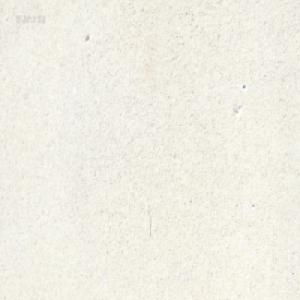Wrench: (155, 0, 162, 4)
